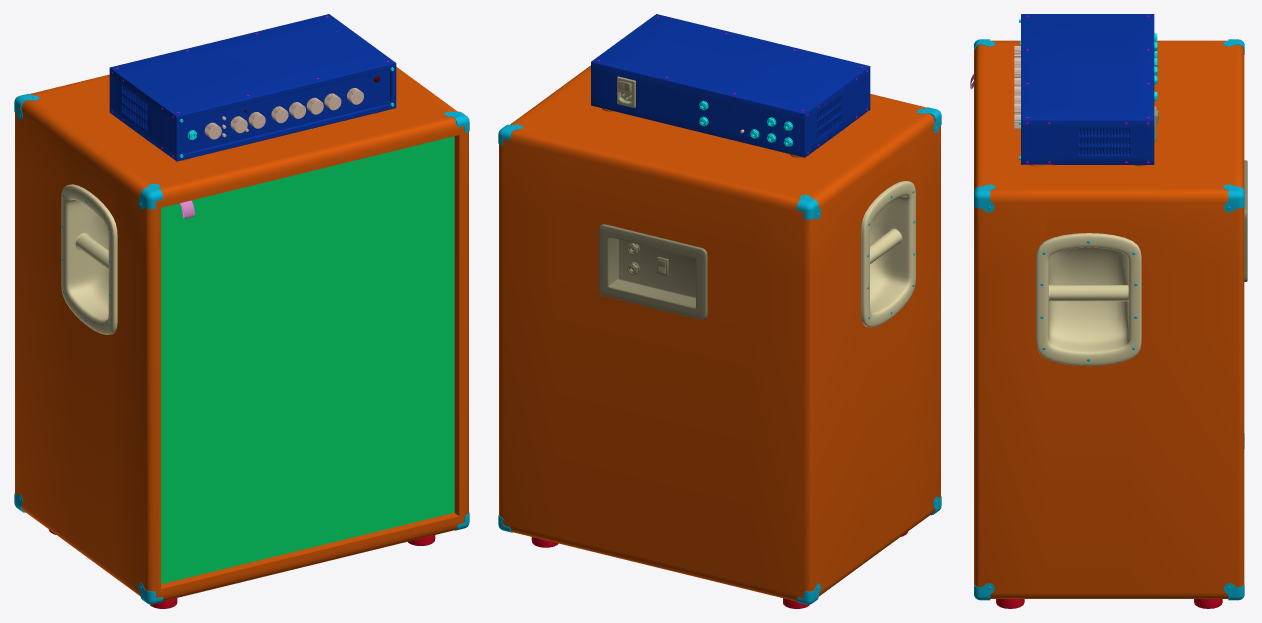
File: BassAmp.fbx
The picture shows the model from 3 angles, left to right: view 1: azimuth 30°, elevation 25°; view 2: azimuth 150°, elevation 25°; view 3: azimuth 270°, elevation 25°; orthographic projection. The views are drawn at different scales.
Parts seen in each view (by area): view 1: Cab, Head; view 2: Cab, Head; view 3: Cab, Head.
Boxes of the visible parts, x1,y1,x2,y2 form: Cab: (14, 67, 469, 608); Head: (109, 14, 396, 161); Cab: (498, 65, 941, 608); Head: (591, 14, 870, 157); Cab: (970, 39, 1247, 608); Head: (1014, 14, 1158, 164).
Bounding box in the file's own units: 50.34 × 69.32 × 36.7.
